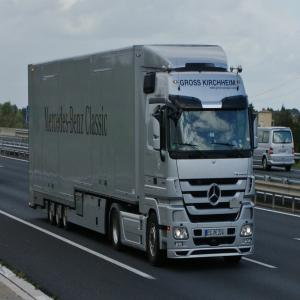Vehicle-registration-plate: (206, 232, 226, 238)
